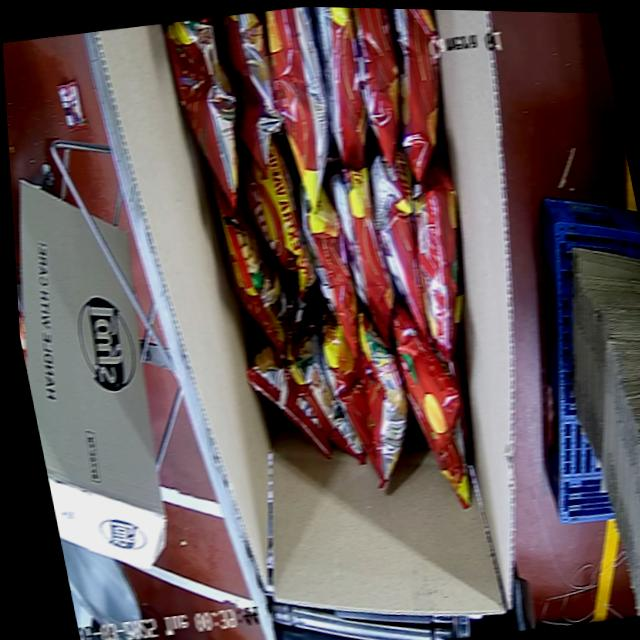MASALA: (158, 4, 532, 540)
